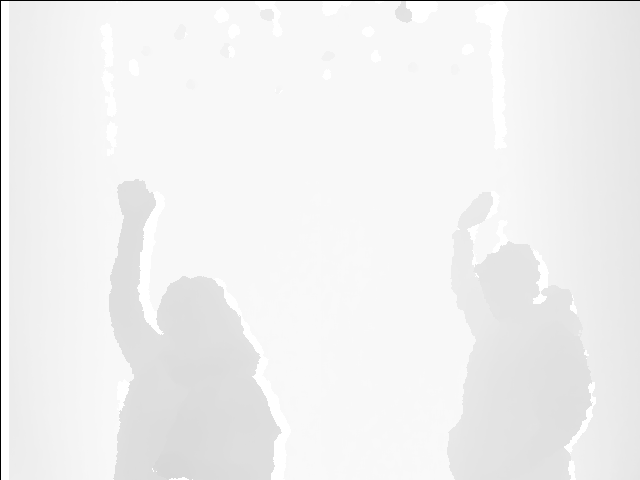hand: (116, 178, 159, 226), (454, 189, 494, 233)
